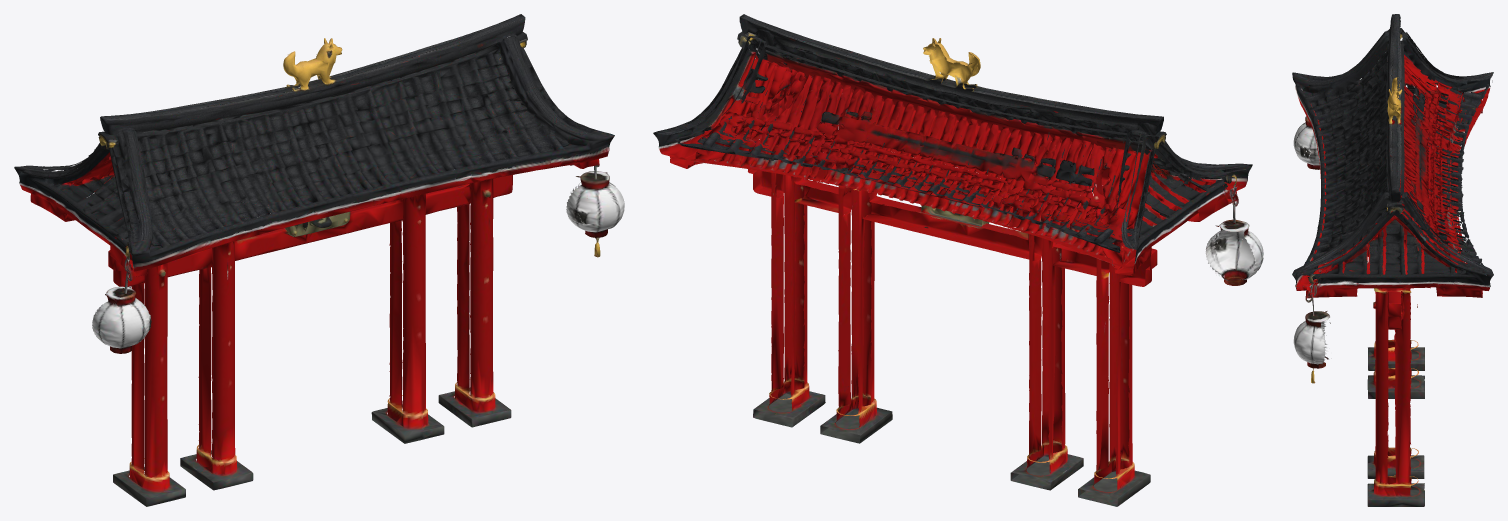
File: temple_gate.glb
3 views of the same model, side by side, from view 1: azimuth 30°, elevation 25°; view 2: azimuth 150°, elevation 25°; view 3: azimuth 270°, elevation 25° (orthographic). The views are drawn at different scales.
Size of the model in its own units: 1.9 by 1.41 by 0.7389.
Materials: 1 (1 with a texture image).
